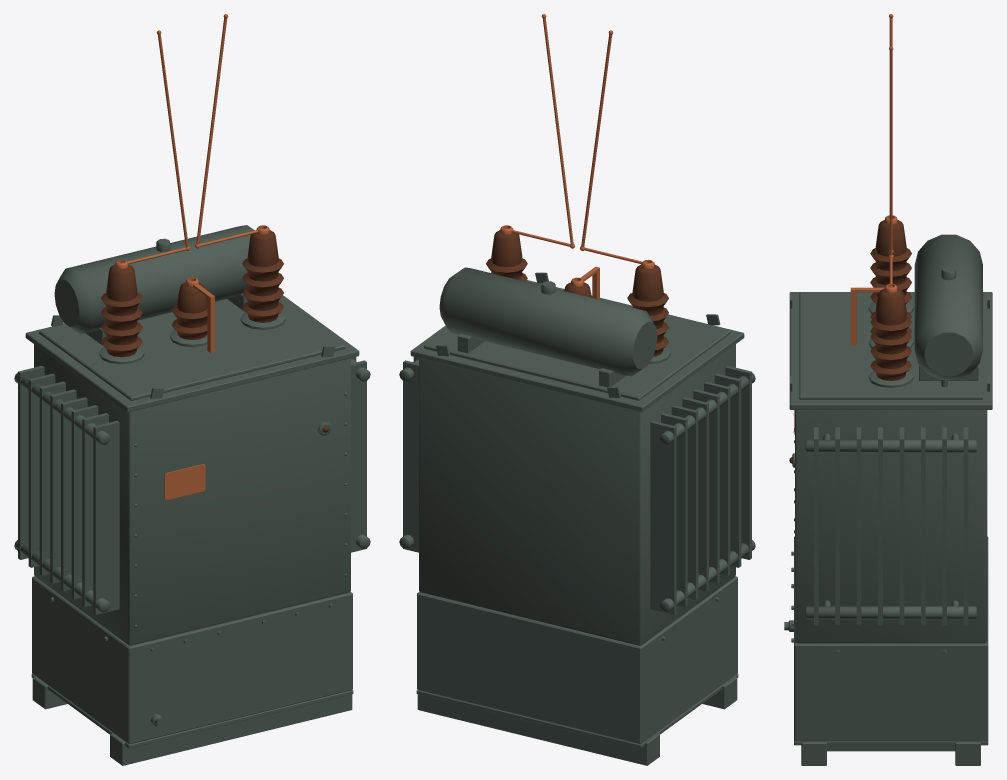
Rendered from transformer.glb.
3 views of the same model, side by side, from view 1: azimuth 30°, elevation 25°; view 2: azimuth 150°, elevation 25°; view 3: azimuth 270°, elevation 25° (orthographic).
Parts seen in each view (by area): view 1: transformer; view 2: transformer; view 3: transformer.
Part boxes in pixels (x1,y1,x2,y2): transformer: (14, 14, 370, 765); transformer: (399, 14, 755, 765); transformer: (784, 14, 992, 765).
Bounding box in the file's own units: 1.46 × 3.51 × 0.975.
